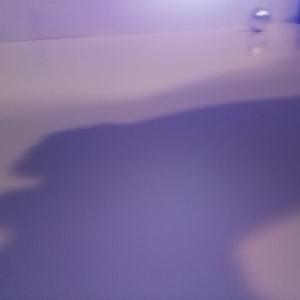alive_ball: (247, 6, 272, 31)
